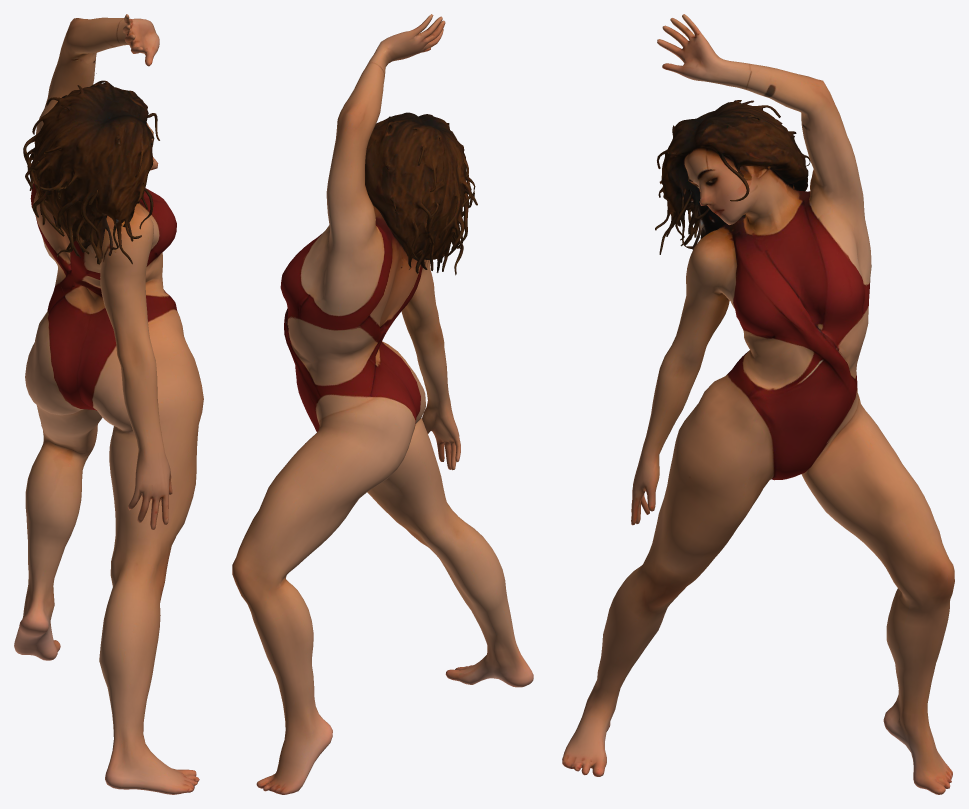
File: female_dancer.glb
The picture shows the model from 3 angles, left to right: view 1: azimuth 30°, elevation 25°; view 2: azimuth 150°, elevation 25°; view 3: azimuth 270°, elevation 25°; orthographic projection. The views are drawn at different scales.
Parts seen in each view (by area): view 1: tripo_node_a671e65d-2cde-4442-80c0-aab1173028ee; view 2: tripo_node_a671e65d-2cde-4442-80c0-aab1173028ee; view 3: tripo_node_a671e65d-2cde-4442-80c0-aab1173028ee.
Part boxes in pixels (x1=…): tripo_node_a671e65d-2cde-4442-80c0-aab1173028ee: x1=14, y1=14, x2=203, y2=794; tripo_node_a671e65d-2cde-4442-80c0-aab1173028ee: x1=232, y1=14, x2=533, y2=794; tripo_node_a671e65d-2cde-4442-80c0-aab1173028ee: x1=562, y1=14, x2=954, y2=794.
Bounding box in the file's own units: 0.3991 × 1.76 × 0.8319.
1 material, 1 textured.
